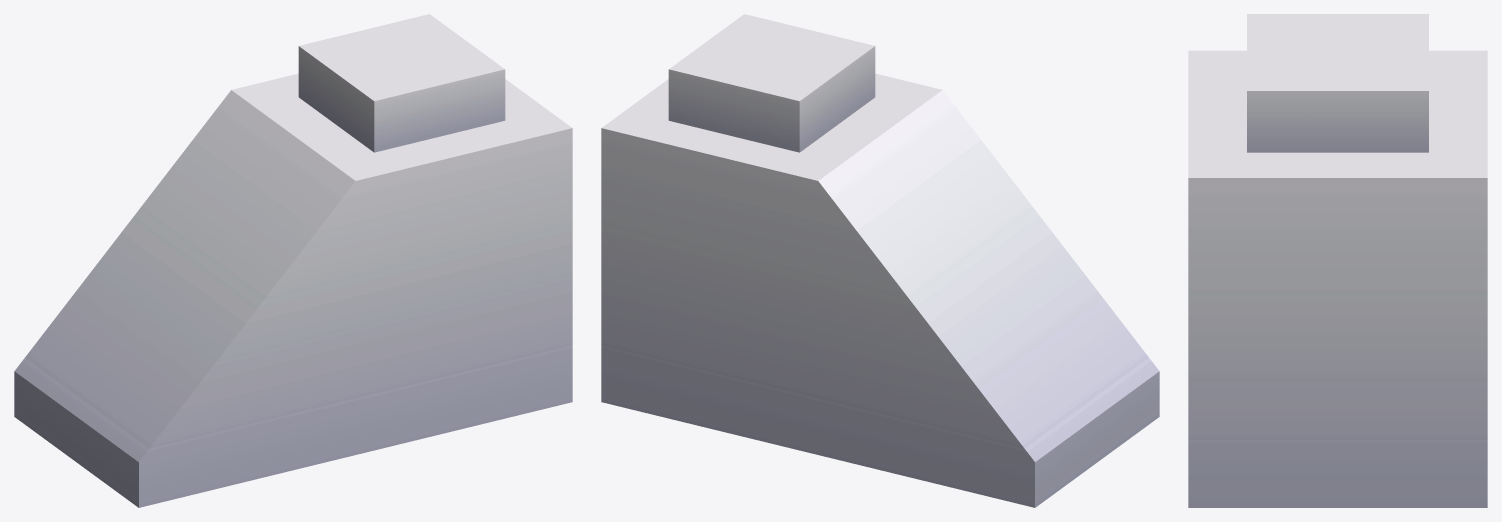
Rendered from square-lq-brick-slope-1x2.glb.
3 renders of one model, left to right at view 1: azimuth 30°, elevation 25°; view 2: azimuth 150°, elevation 25°; view 3: azimuth 270°, elevation 25°, orthographic. The views are drawn at different scales.
Parts seen in each view (by area): view 1: square-lq-brick-slope-1x2; view 2: square-lq-brick-slope-1x2; view 3: square-lq-brick-slope-1x2.
Part boxes in pixels (<box>): square-lq-brick-slope-1x2: <box>14,14,572,507</box>; square-lq-brick-slope-1x2: <box>601,14,1159,507</box>; square-lq-brick-slope-1x2: <box>1188,14,1487,507</box>.
Bounding box in the file's own units: 0.159 × 0.114 × 0.079.
Materials: 1 (1 with a texture image).
